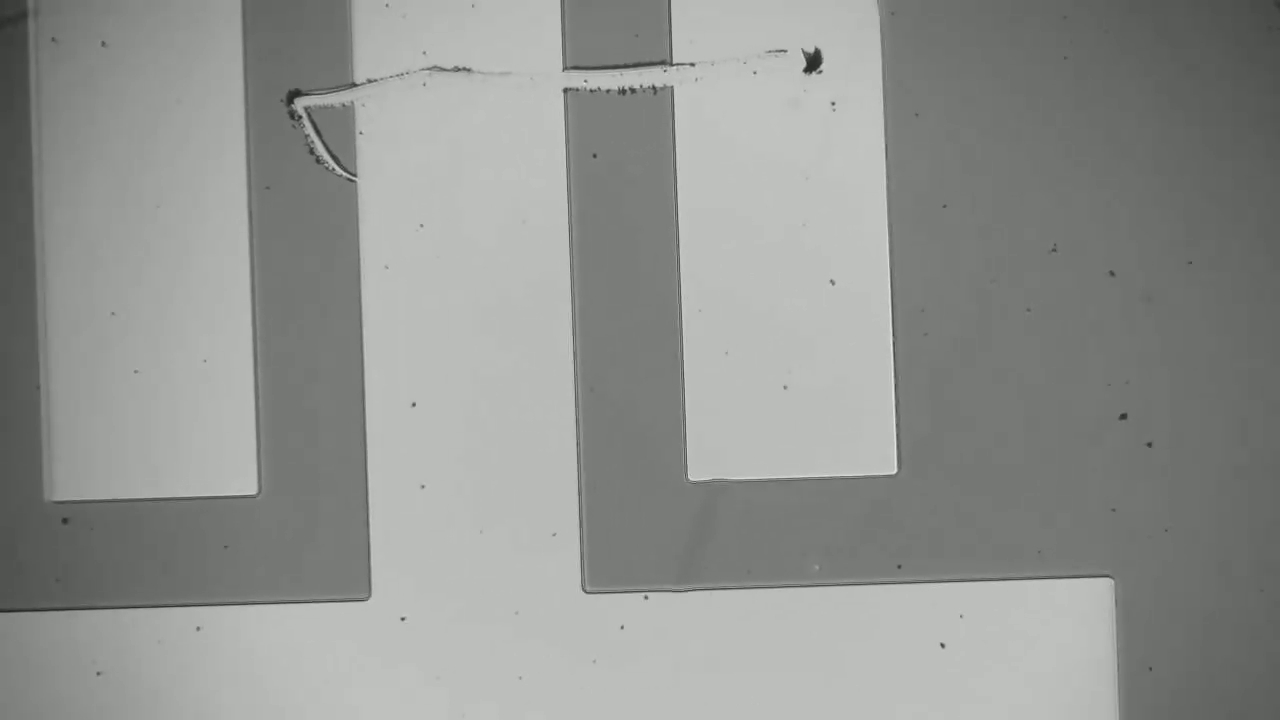Short_circuit: (551, 45, 719, 127), (234, 55, 384, 140)
